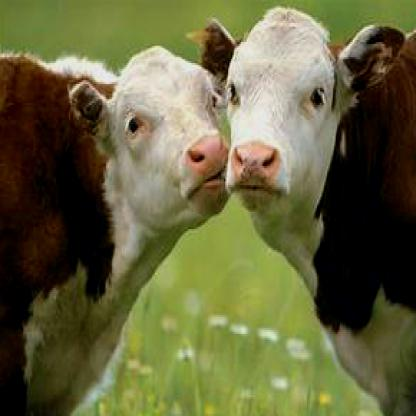cow: (202, 4, 415, 414), (0, 52, 230, 414)
